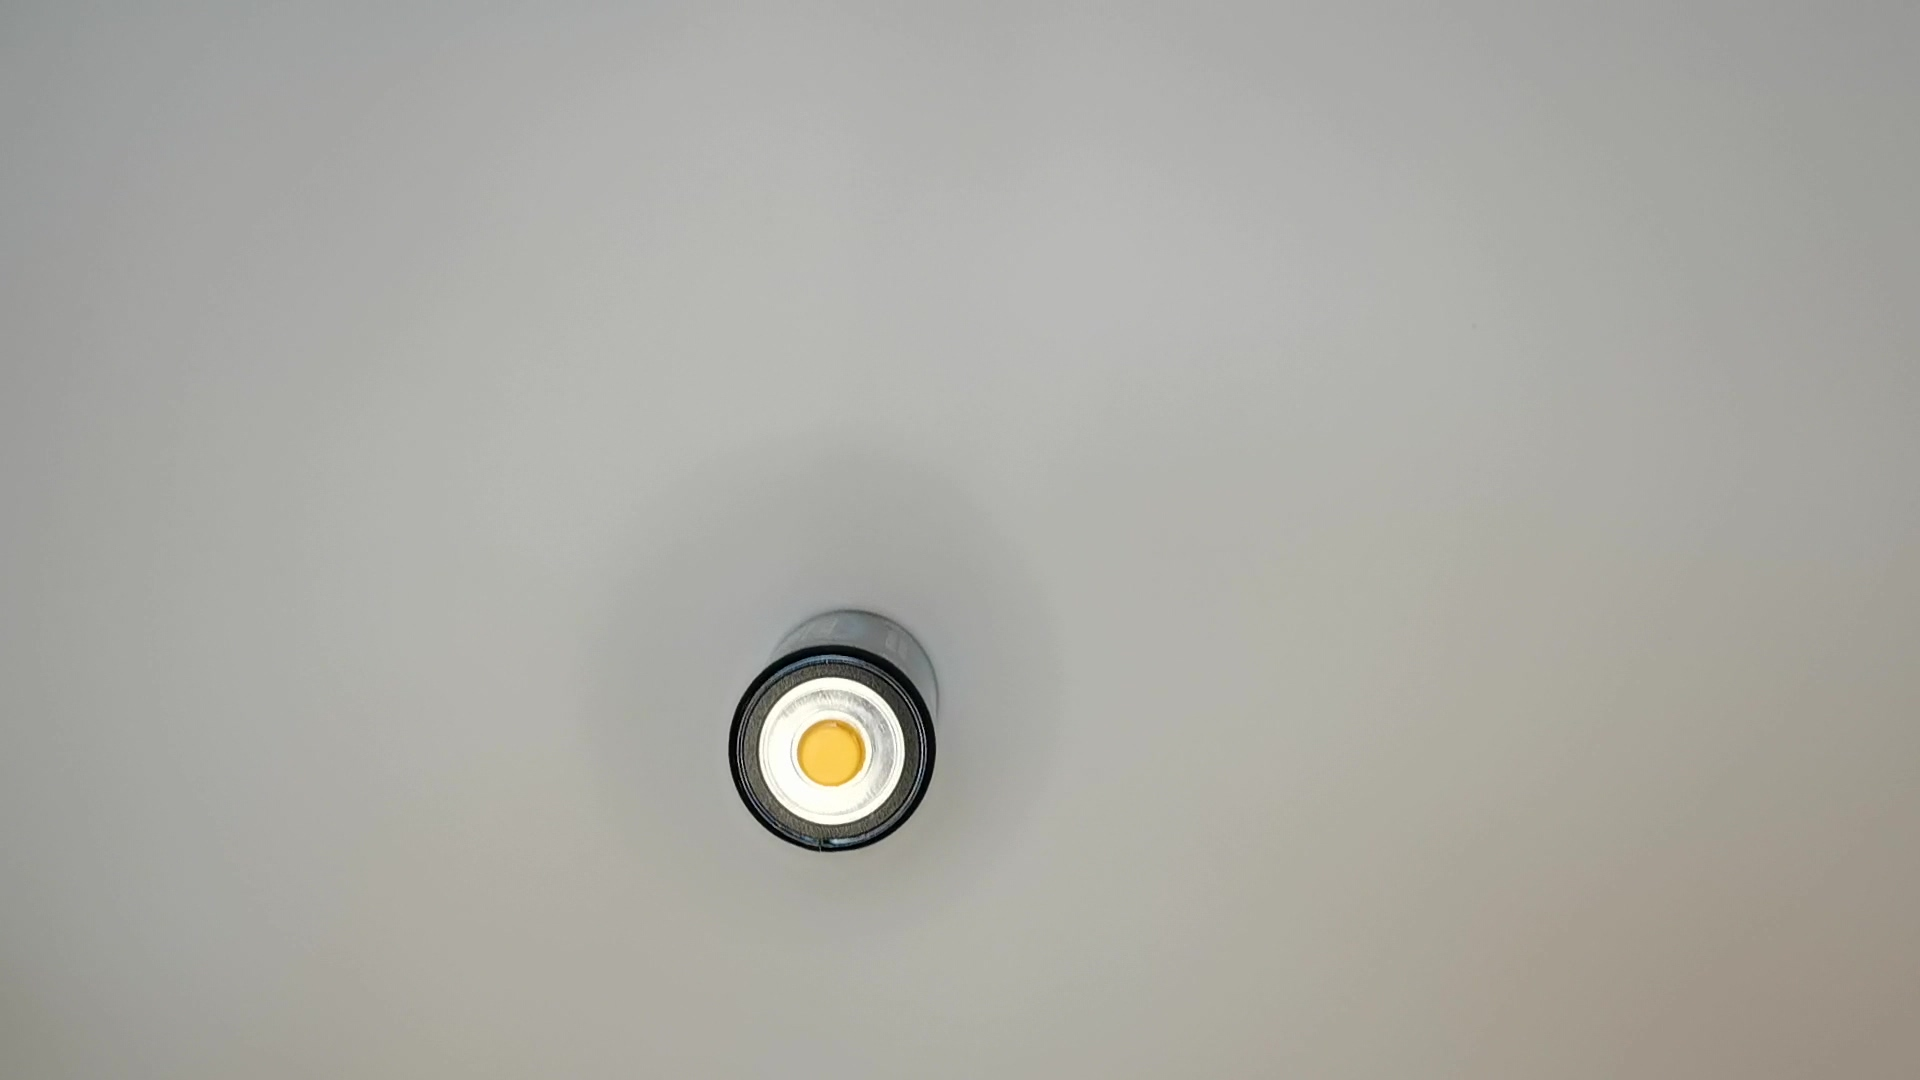battery: (727, 605, 948, 855)
